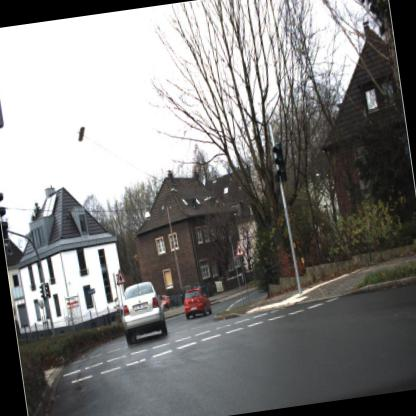danger: (110, 266, 127, 289), (231, 240, 247, 260)
